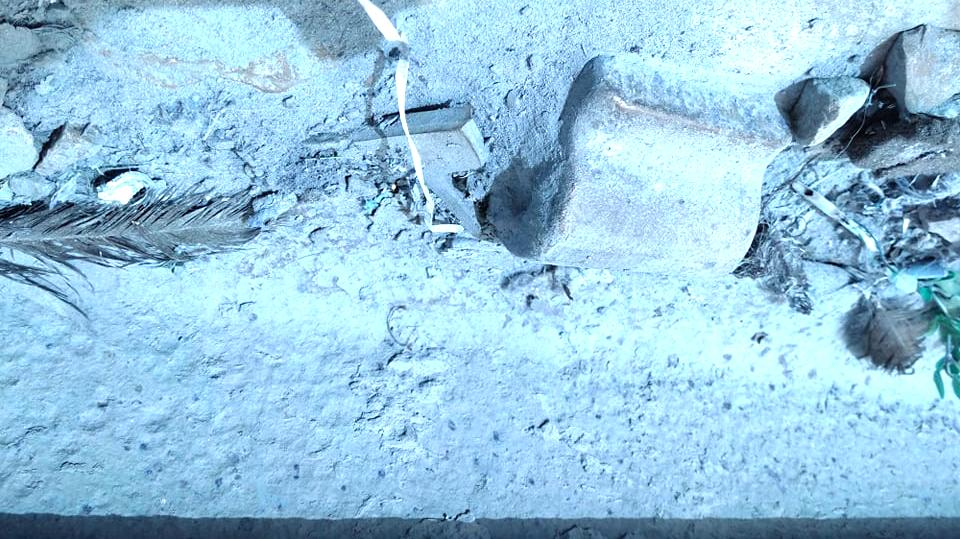loss: (483, 56, 807, 295)
